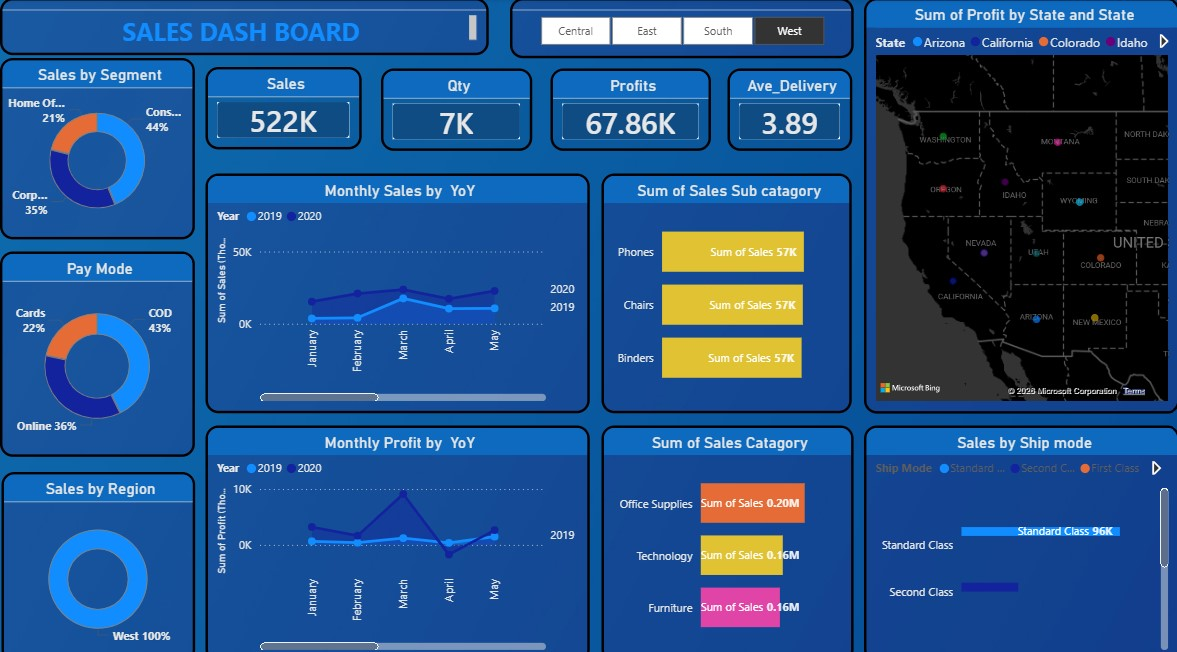

Layout of this report page (visuals, bound fields, positions):
{"tool":"powerbi","page":{"name":"Page 1","canvas":[1280,720],"ordinal":0},"visuals":[{"type":"clusteredBarChart","title":"Sum of Sales Catagory","fields":{"Category":["SuperStore_Sales_Dataset.Category"],"Y":["Sum(SuperStore_Sales_Dataset.Sales)"]},"box":[652.2,463.6,273.3,257],"z":0},{"type":"clusteredBarChart","title":"Sum of Sales Sub catagory","fields":{"Category":["SuperStore_Sales_Dataset.Sub-Category"],"Y":["Sum(SuperStore_Sales_Dataset.Sales)"]},"box":[652.2,190.3,271.6,260.2],"z":1000},{"type":"clusteredBarChart","title":" Sales by Ship mode","fields":{"Category":["SuperStore_Sales_Dataset.Ship Mode"],"Y":["Sum(SuperStore_Sales_Dataset.Sales)"],"Series":["SuperStore_Sales_Dataset.Ship Mode"]},"box":[936.9,463.6,343.2,257],"z":2000},{"type":"areaChart","title":"Monthly Sales by  YoY","fields":{"Y":["Sum(SuperStore_Sales_Dataset.Sales)"],"Series":["SuperStore_Sales_Dataset.Order Date.Variation.Date Hierarchy.Year"],"Category":["SuperStore_Sales_Dataset.Order Date.Variation.Date Hierarchy.Month","SuperStore_Sales_Dataset.Order Date.Variation.Date Hierarchy.Day"]},"box":[222.8,190.3,416.4,260.2],"z":3000},{"type":"areaChart","title":"Monthly Profit by  YoY","fields":{"Series":["SuperStore_Sales_Dataset.Order Date.Variation.Date Hierarchy.Year"],"Category":["SuperStore_Sales_Dataset.Order Date.Variation.Date Hierarchy.Month","SuperStore_Sales_Dataset.Order Date.Variation.Date Hierarchy.Day"],"Y":["Sum(SuperStore_Sales_Dataset.Profit)"]},"box":[222.8,463.6,416.4,257],"z":4000},{"type":"map","fields":{"Category":["SuperStore_Sales_Dataset.State"],"Series":["SuperStore_Sales_Dataset.State"]},"box":[936.9,0,343.2,450.6],"z":5000},{"type":"donutChart","title":"Sales by Segment","fields":{"Category":["SuperStore_Sales_Dataset.Segment"],"Y":["Sum(SuperStore_Sales_Dataset.Sales)"]},"box":[0,65.1,211.5,196.8],"z":6000},{"type":"slicer","fields":{"Values":["SuperStore_Sales_Dataset.Region"]},"box":[553,0,372.5,65.1],"z":8000},{"type":"textbox","box":[0,0,530.3,61.8],"z":9000},{"type":"cardVisual","title":"Sales","fields":{"Data":["Sum(SuperStore_Sales_Dataset.Sales)"]},"box":[222.8,74.8,169.2,89.5],"z":10000},{"type":"cardVisual","title":"Qty","fields":{"Data":["Sum(SuperStore_Sales_Dataset.Quantity)"]},"box":[413.1,76.4,164.3,89.5],"z":11000},{"type":"cardVisual","title":"Profits","fields":{"Data":["Sum(SuperStore_Sales_Dataset.Profit)"]},"box":[596.9,76.4,174,89.5],"z":12000},{"type":"cardVisual","title":"Ave_Delivery","fields":{"Data":["Avg(SuperStore_Sales_Dataset.Ave_day_ship)"]},"box":[788.9,76.4,135,89.5],"z":13000},{"type":"donutChart","title":" Pay Mode","fields":{"Category":["SuperStore_Sales_Dataset.Payment Mode"],"Y":["Sum(SuperStore_Sales_Dataset.Sales)"]},"box":[0,274.9,211.5,222.8],"z":13001},{"type":"donutChart","title":"Sales by Region","fields":{"Category":["SuperStore_Sales_Dataset.Region"],"Y":["Sum(SuperStore_Sales_Dataset.Sales)"]},"box":[1.6,514,209.8,206.6],"z":13002}]}

Visuals, with their boxes in screenshot pixels (x1, y1, x2, y2), scaled from the page's 1280x720 canvas onto the 1177x652 screenshot:
"Sum of Sales Catagory" clusteredBarChart: 600, 420, 851, 651
"Sum of Sales Sub catagory" clusteredBarChart: 600, 172, 849, 408
" Sales by Ship mode" clusteredBarChart: 862, 420, 1176, 651
"Monthly Sales by  YoY" areaChart: 205, 172, 588, 408
"Monthly Profit by  YoY" areaChart: 205, 420, 588, 651
map - SuperStore_Sales_Dataset.State x SuperStore_Sales_Dataset.State: 862, 0, 1176, 408
"Sales by Segment" donutChart: 0, 59, 194, 237
slicer - SuperStore_Sales_Dataset.Region: 509, 0, 851, 59
textbox: 0, 0, 488, 56
"Sales" cardVisual: 205, 68, 360, 149
"Qty" cardVisual: 380, 69, 531, 150
"Profits" cardVisual: 549, 69, 709, 150
"Ave_Delivery" cardVisual: 725, 69, 850, 150
" Pay Mode" donutChart: 0, 249, 194, 451
"Sales by Region" donutChart: 1, 465, 194, 651
